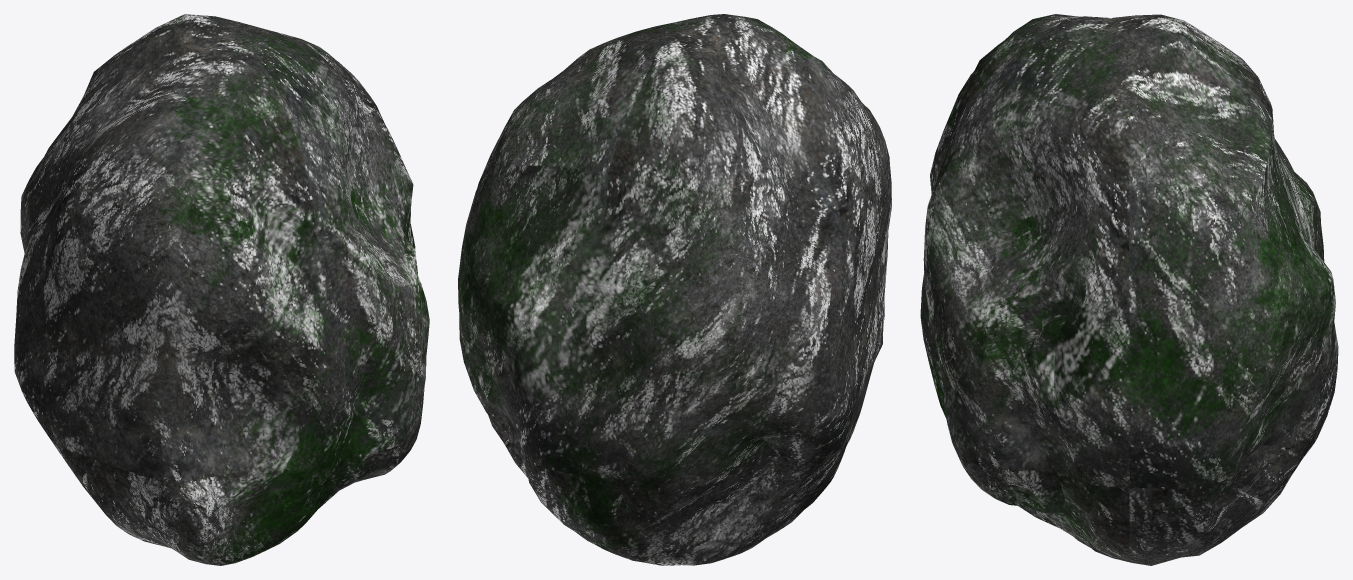
The model's file is rock_3.fbx.
The picture shows the model from 3 angles, left to right: view 1: azimuth 30°, elevation 25°; view 2: azimuth 150°, elevation 25°; view 3: azimuth 270°, elevation 25°; orthographic projection.
Parts seen in each view (by area): view 1: PolySphere; view 2: PolySphere; view 3: PolySphere.
Part boxes in pixels (x1,y1,x2,y2): PolySphere: [14, 14, 429, 565]; PolySphere: [458, 14, 891, 565]; PolySphere: [920, 14, 1338, 565].
Size of the model in its own units: 1.49 by 1.98 by 1.44.
